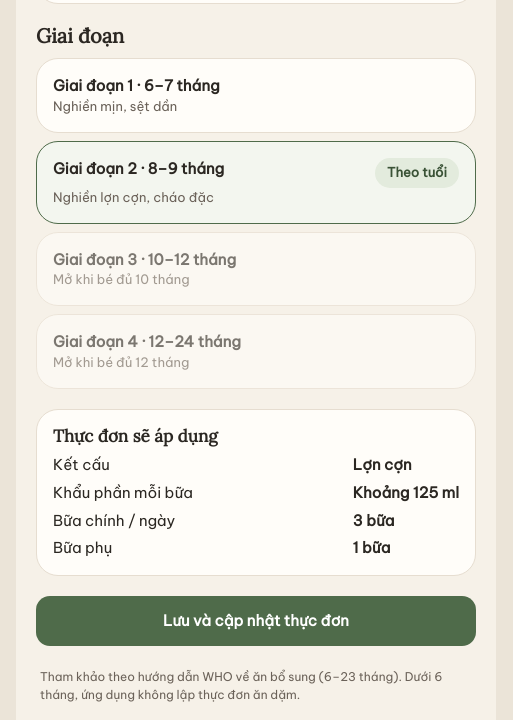
Test case: age settings (S10, UC-03) › reports a failed save
(page scrolled)
Click the button "Lưu và cập nhật thực đơn": (256, 621) [36,596,476,646]
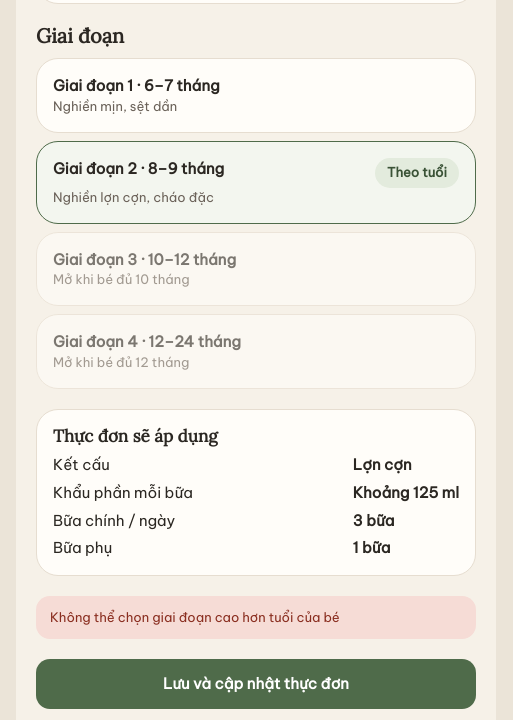
Result: the message reads "Không thể chọn giai đoạn cao hơn tuổi của bé" at [50,609,340,625]
